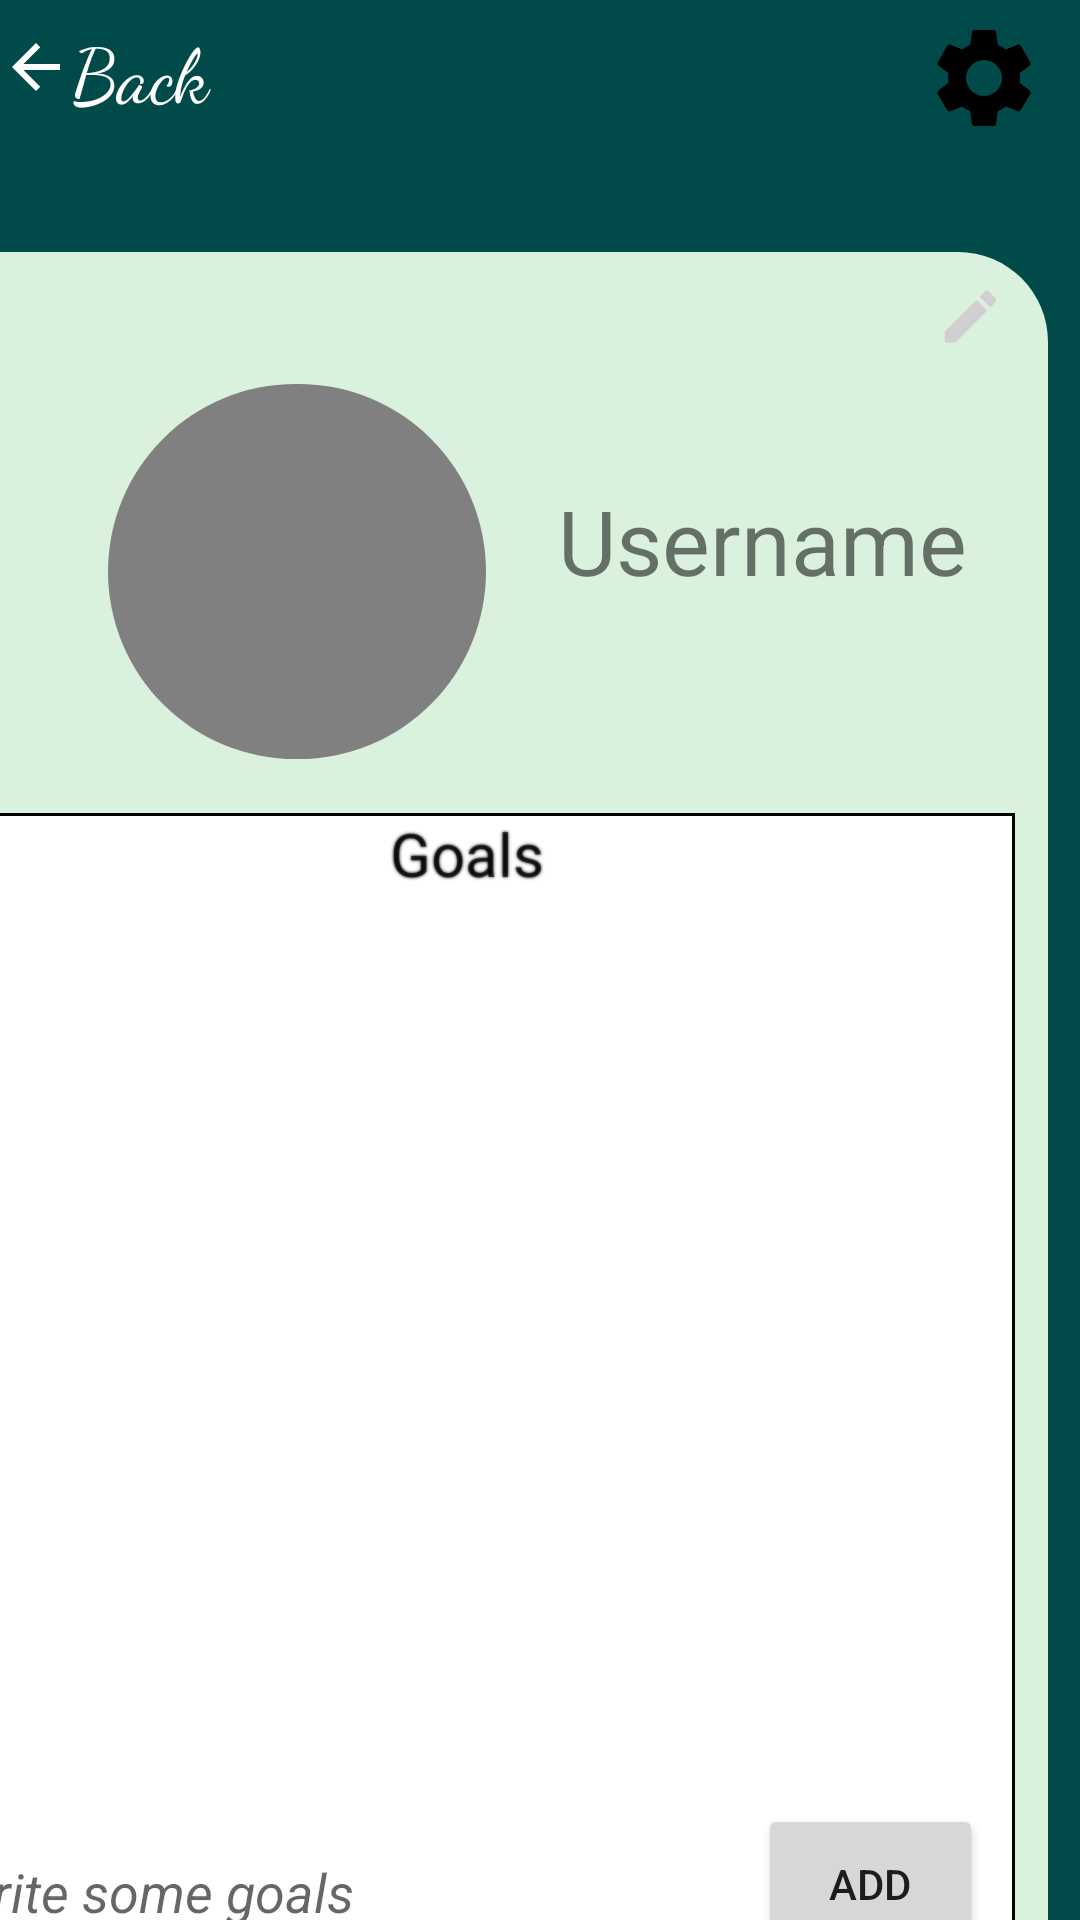

Where to tap for icons on this 1080px×1920px app screen, as point (x, y):
edit: point (970, 316)
